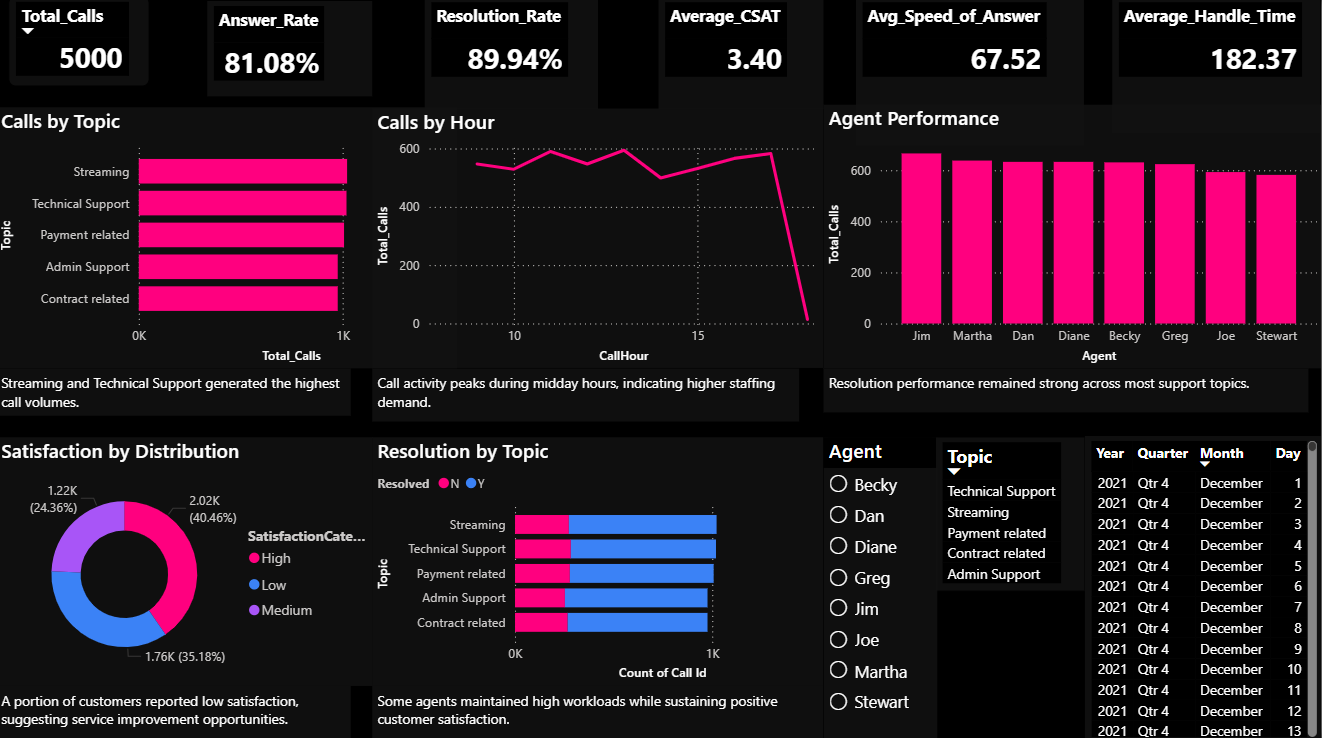

The page's visual inventory and layout, read from the dashboard file:
{"tool":"powerbi","page":{"name":"Page 1","canvas":[1280,720],"ordinal":0},"visuals":[{"type":"tableEx","fields":{"Values":["Cleaned Data.Total_Calls"]},"box":[12.2,0,135.7,86.8],"z":0},{"type":"tableEx","fields":{"Values":["Cleaned Data.Answer_Rate"]},"box":[204.2,4.9,159,91.7],"z":1000},{"type":"tableEx","fields":{"Values":["Cleaned Data.Resolution_Rate"]},"box":[413.3,1.2,167.5,107.6],"z":2000},{"type":"tableEx","fields":{"Values":["Cleaned Data.Average_CSAT"]},"box":[639.5,1.2,159,107.6],"z":3000},{"type":"tableEx","fields":{"Values":["Cleaned Data.Avg_Speed_of_Answer"]},"box":[830.3,1.2,220.1,143.1],"z":4000},{"type":"tableEx","fields":{"Values":["Cleaned Data.Average_Handle_Time"]},"box":[1077.3,1.2,201.8,130.8],"z":5000},{"type":"clusteredBarChart","title":"Calls by Topic","fields":{"Category":["Cleaned Data.Topic"],"Y":["Cleaned Data.Total_Calls"]},"box":[0,107.6,445.1,251.9],"z":6000},{"type":"lineChart","title":"Calls by Hour","fields":{"Category":["Cleaned Data.CallHour"],"Y":["Cleaned Data.Total_Calls"]},"box":[363.2,108.8,435.3,250.7],"z":7000},{"type":"clusteredColumnChart","title":"Agent Performance","fields":{"Category":["Cleaned Data.Agent"],"Y":["Cleaned Data.Total_Calls"]},"box":[798.5,105.2,481.8,254.3],"z":8000},{"type":"donutChart","title":"Satisfaction by Distribution","fields":{"Category":["Cleaned Data.SatisfactionCategory"],"Y":["CountNonNull(Cleaned Data.Call Id)"]},"box":[0,425.9,363.1,240.1],"z":9000},{"type":"barChart","title":"Resolution by Topic","fields":{"Y":["CountNonNull(Cleaned Data.Call Id)"],"Category":["Cleaned Data.Topic"],"Series":["Cleaned Data.Resolved"]},"box":[363.1,425.9,435.5,240.1],"z":10000},{"type":"listSlicer","fields":{"Values":["Cleaned Data.Agent"]},"box":[798.6,425.4,109.8,295],"z":11000},{"type":"tableEx","fields":{"Values":["Cleaned Data.Topic"]},"box":[907.3,425.5,143.1,148],"z":12000},{"type":"tableEx","fields":{"Values":["Cleaned Data.Date.Variation.Date Hierarchy.Year","Cleaned Data.Date.Variation.Date Hierarchy.Quarter","Cleaned Data.Date.Variation.Date Hierarchy.Month","Cleaned Data.Date.Variation.Date Hierarchy.Day"]},"box":[1051,425,229,295],"z":13000},{"type":"textbox","box":[0,359.5,342.4,45.2],"z":14000},{"type":"textbox","box":[363.2,359.5,412.1,51.4],"z":15000},{"type":"textbox","box":[798.5,359.5,468.3,42.8],"z":16000},{"type":"textbox","box":[0,666,342.6,54.3],"z":17000},{"type":"textbox","box":[363.1,666,435.5,54.3],"z":18000}]}

Visuals, with their boxes in screenshot pixels (x1, y1, x2, y2), scaled from the page's 1280x720 canvas onto the 1322x738 screenshot:
tableEx - Cleaned Data.Total_Calls: 13,0,153,89
tableEx - Cleaned Data.Answer_Rate: 211,5,375,99
tableEx - Cleaned Data.Resolution_Rate: 427,1,600,112
tableEx - Cleaned Data.Average_CSAT: 660,1,825,112
tableEx - Cleaned Data.Avg_Speed_of_Answer: 858,1,1085,148
tableEx - Cleaned Data.Average_Handle_Time: 1113,1,1321,135
"Calls by Topic" clusteredBarChart: 0,110,460,368
"Calls by Hour" lineChart: 375,112,825,368
"Agent Performance" clusteredColumnChart: 825,108,1321,368
"Satisfaction by Distribution" donutChart: 0,437,375,683
"Resolution by Topic" barChart: 375,437,825,683
listSlicer - Cleaned Data.Agent: 825,436,938,737
tableEx - Cleaned Data.Topic: 937,436,1085,588
tableEx - Cleaned Data.Date.Variation.Date Hierarchy.Year x Cleaned Data.Date.Variation.Date Hierarchy.Quarter: 1085,436,1321,737
textbox: 0,368,354,415
textbox: 375,368,801,421
textbox: 825,368,1308,412
textbox: 0,683,354,737
textbox: 375,683,825,737
